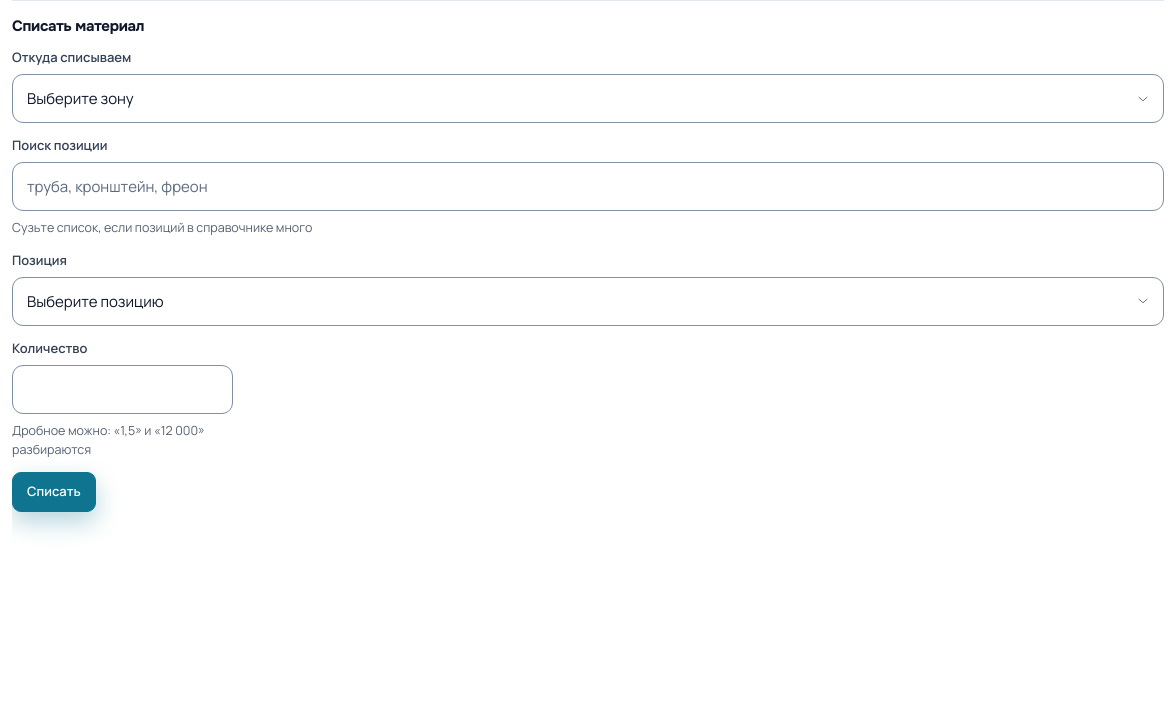
Test: Списание материала на наряд › после успеха форма готова к следующей строке, а зона остаётся выбранной
The image size is (1176, 720).
Select "Газель" in the dropdown labelled "Откуда списываем" at (588, 99), box [12,74,1164,123]
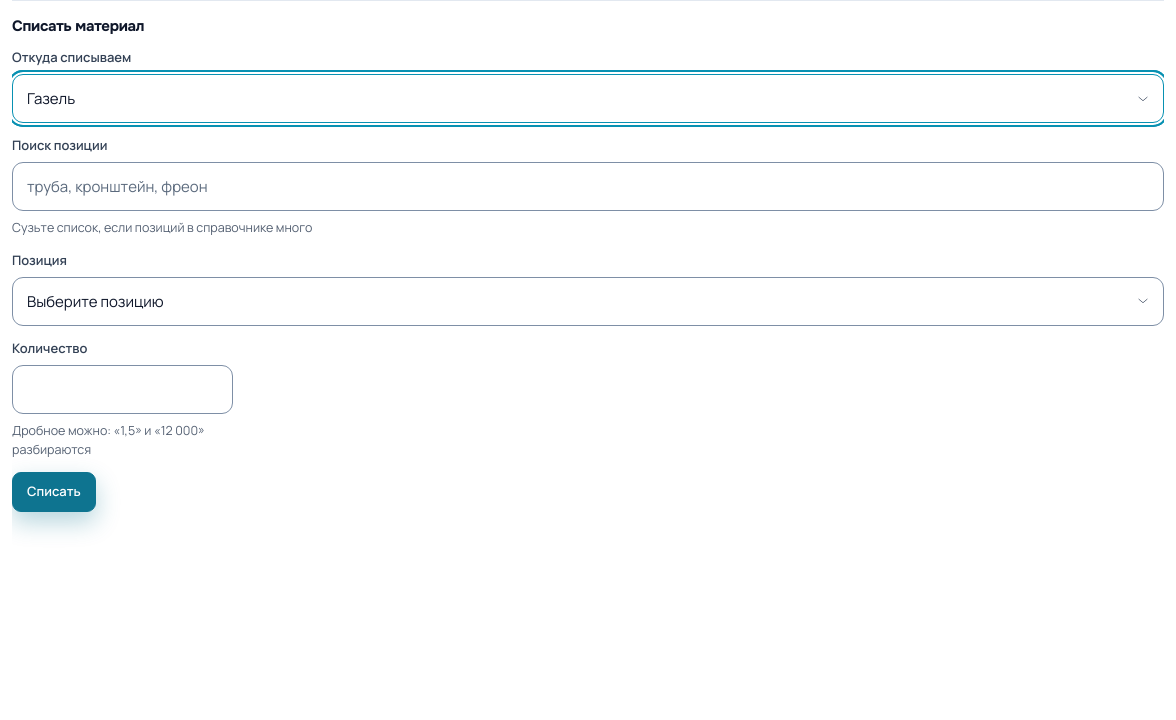
Select "Труба медная 1/4″ — 12 м" in the dropdown labelled "Позиция" at (588, 301), box [12,277,1164,326]
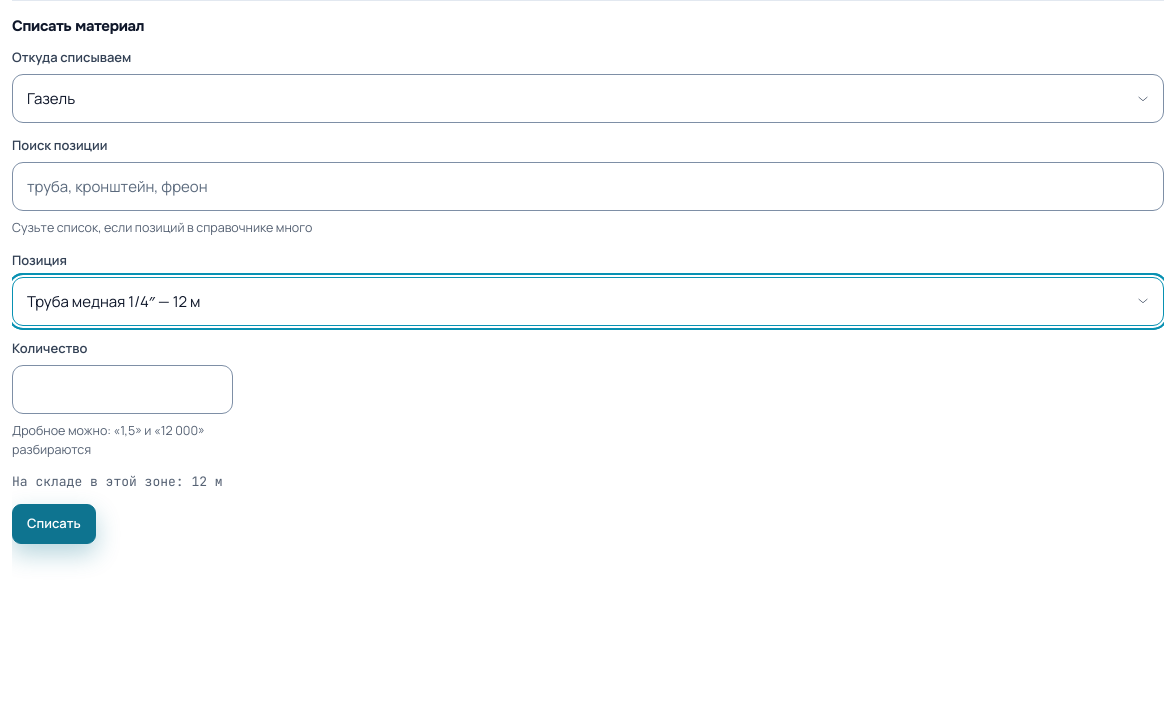
Type "4" into the field labelled "Количество".
click(122, 389); type("4")  # box [12,365,233,414]
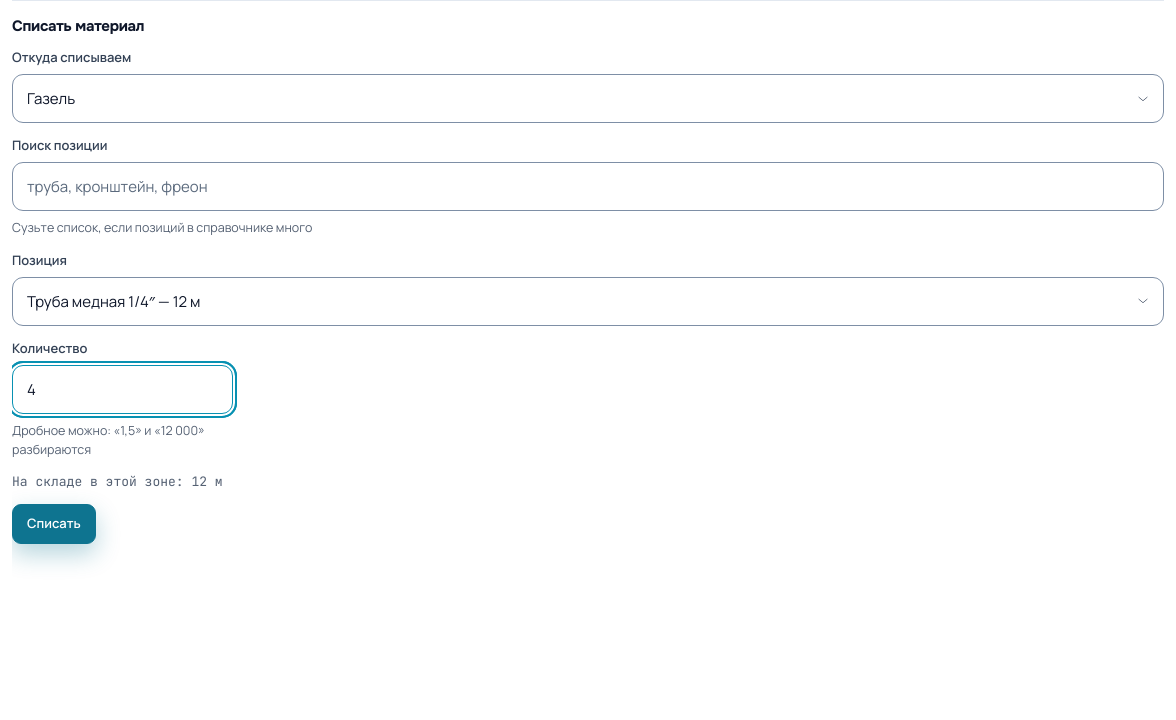
Click the button "Списать".
click(54, 524)  # box [12,504,96,544]
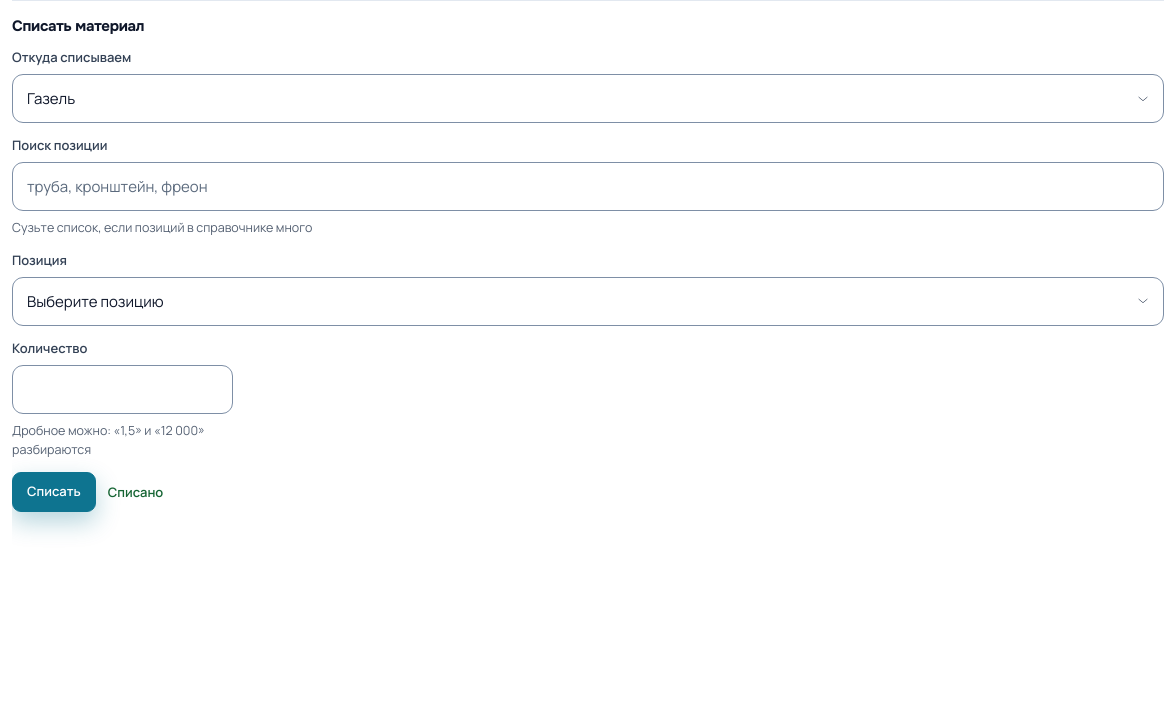
Expected: the text "Списано" is shown, [108,482,163,502]
Expected: the field labelled "Количество" is empty, [12,365,233,414]
